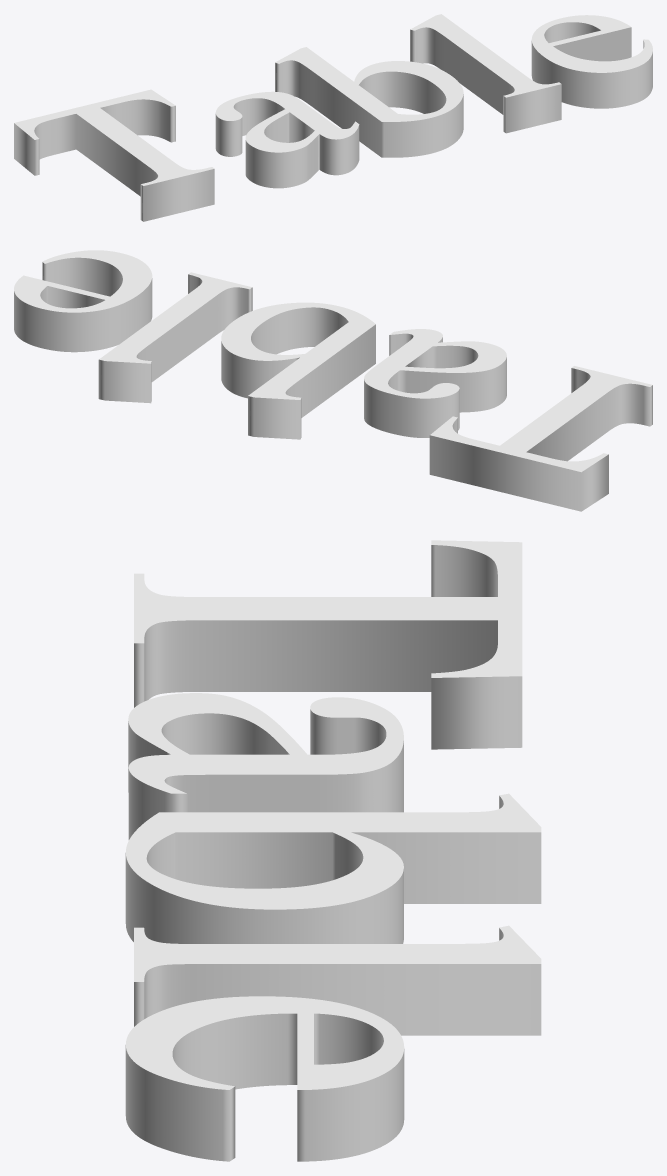
Rendered from Tabletext.obj.
3 renders of one model, top to bottom at view 1: azimuth 30°, elevation 25°; view 2: azimuth 150°, elevation 25°; view 3: azimuth 270°, elevation 25°, orthographic. The views are drawn at different scales.
Parts seen in each view (by area): view 1: Text; view 2: Text; view 3: Text.
Boxes of the visible parts, box(x1,y1,x2,y2) form: Text: box(14, 14, 652, 221); Text: box(14, 250, 652, 511); Text: box(125, 540, 541, 1161).
Size of the model in its own units: 1.65 by 0.1 by 0.5259.
Materials: 1 (1 with a texture image).
